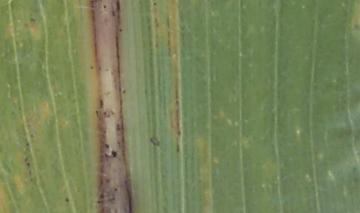tarspot: (148, 133, 161, 146), (110, 4, 117, 17), (110, 149, 119, 159), (95, 108, 102, 119), (98, 97, 104, 109), (103, 151, 111, 159), (63, 196, 71, 204), (96, 199, 106, 205), (103, 141, 110, 149), (88, 64, 95, 71), (99, 192, 105, 200), (118, 26, 124, 33), (151, 1, 157, 8), (101, 3, 107, 9), (112, 186, 118, 192), (102, 109, 108, 115), (121, 88, 126, 95)
